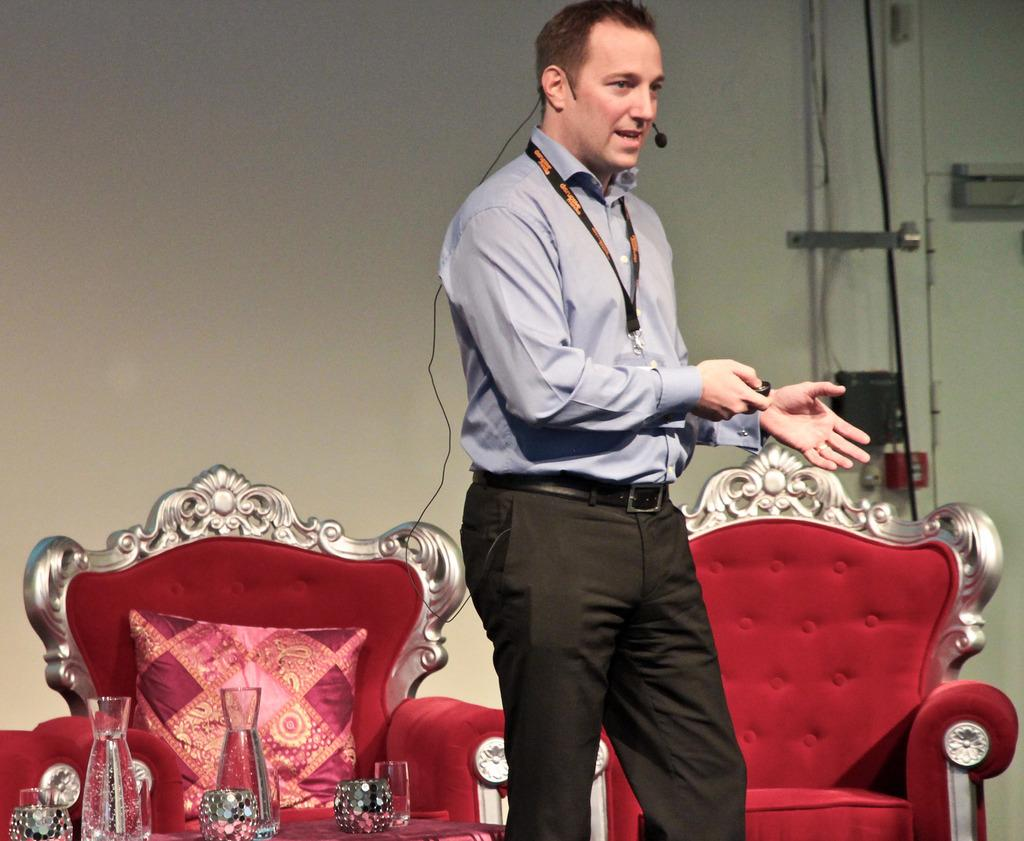Chair: (586, 442, 1022, 840), (6, 491, 465, 822)
